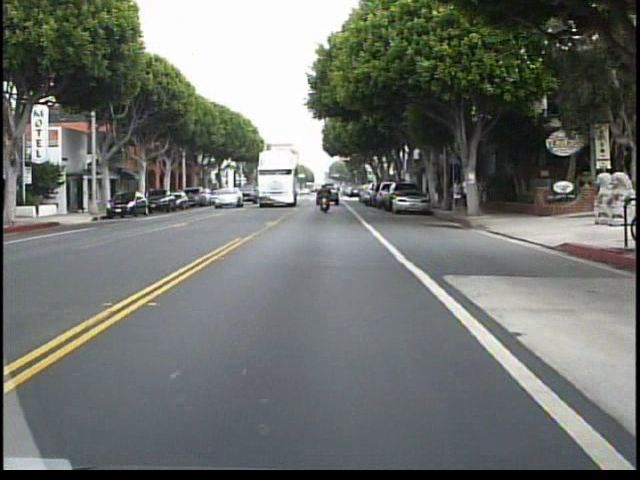person: (316, 179, 335, 218), (451, 175, 465, 214), (479, 175, 492, 215), (466, 174, 477, 213)
